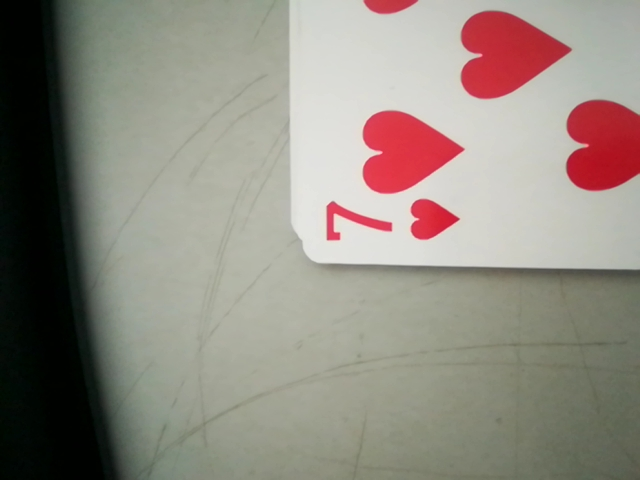hx 7: (313, 193, 469, 259)
